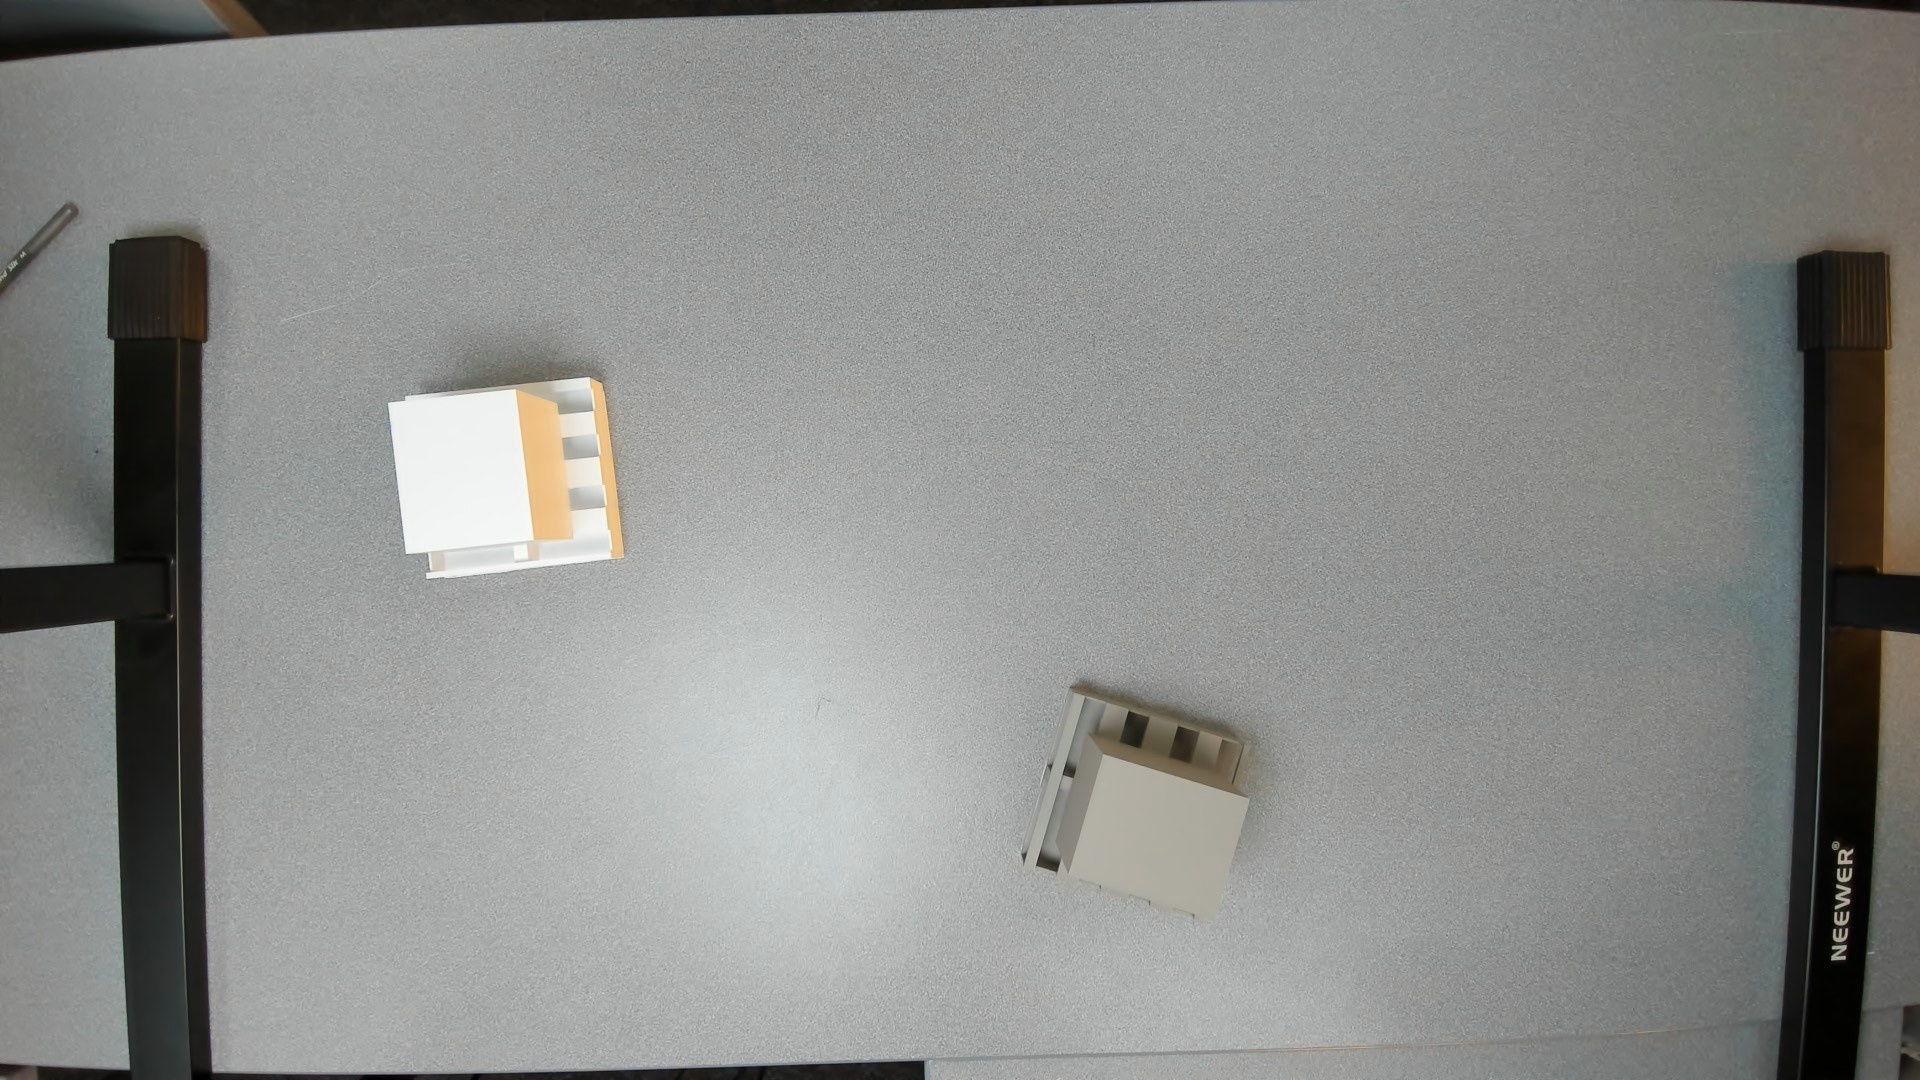grey pallet: (1013, 671, 1257, 931)
white pallet: (382, 369, 640, 592)
